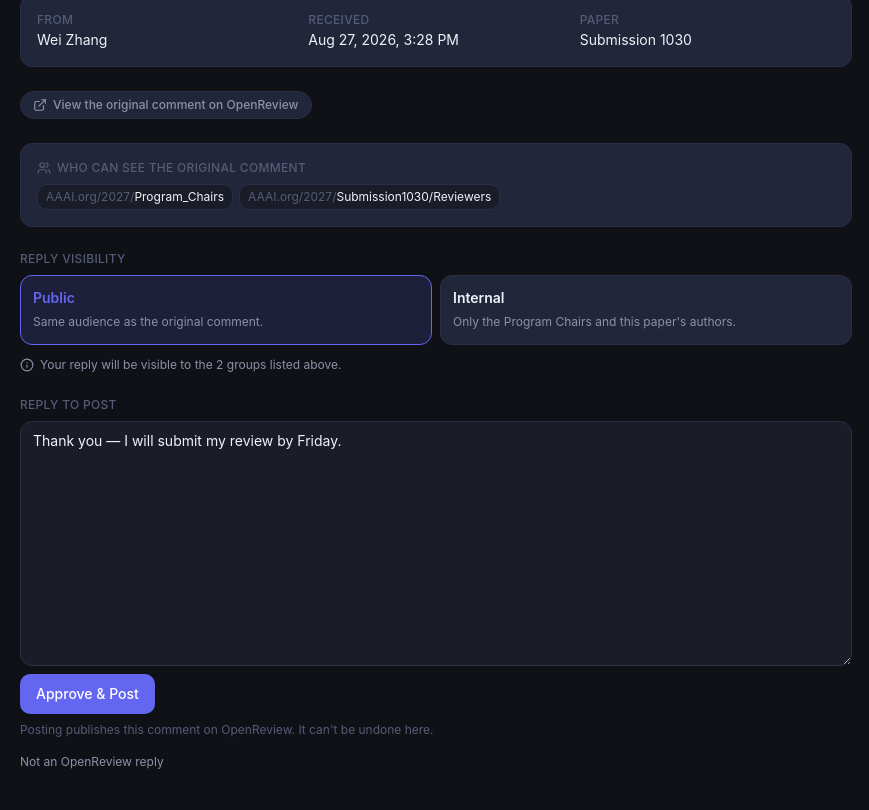
Test case: post — failure › shows a specific message for OpenReviewNoteNotFoundError
The width and height of the screenshot is (869, 810).
(page scrolled)
Check: the text box labelled "Reply to post" holds "Thank you — I will submit my review by Friday.", box [20,420,852,666]
Click the button "Approve & Post": (87, 694) [20,674,155,714]
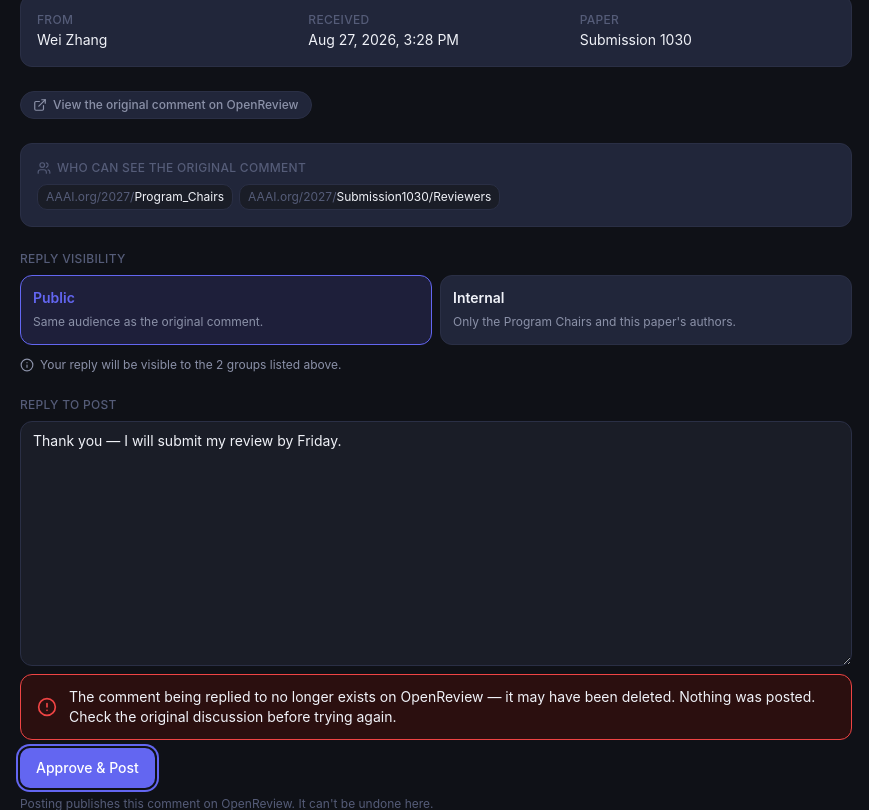
Check: the message does not show "something went wrong", box [20,674,852,740]
Check: the message shows "no longer exists on OpenReview", box [69,688,815,725]
